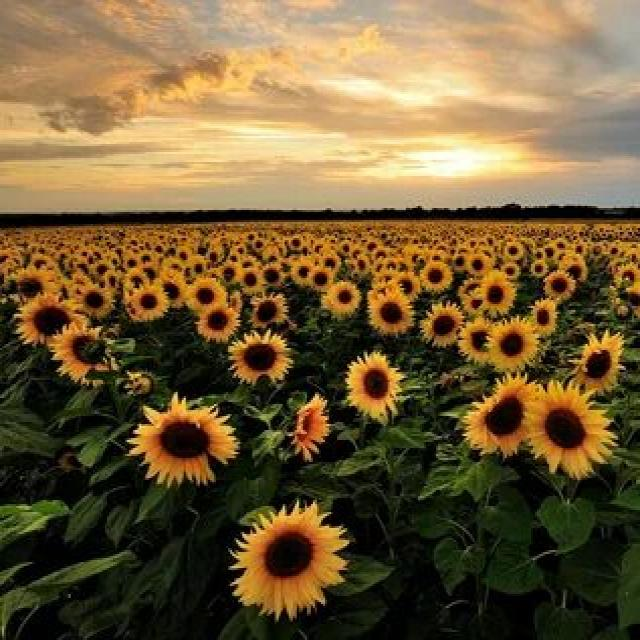sunflower: (224, 490, 357, 616), (517, 376, 622, 488), (129, 394, 242, 490), (452, 370, 545, 464), (339, 348, 408, 424), (565, 326, 628, 402), (49, 316, 117, 380), (481, 314, 541, 380), (282, 391, 332, 467), (19, 287, 73, 343), (192, 298, 244, 346), (472, 268, 517, 320), (367, 284, 412, 336), (419, 302, 465, 351), (127, 280, 168, 330), (69, 280, 111, 322), (249, 291, 288, 332), (323, 278, 361, 316), (541, 270, 577, 304), (420, 259, 455, 293), (234, 262, 265, 292)
